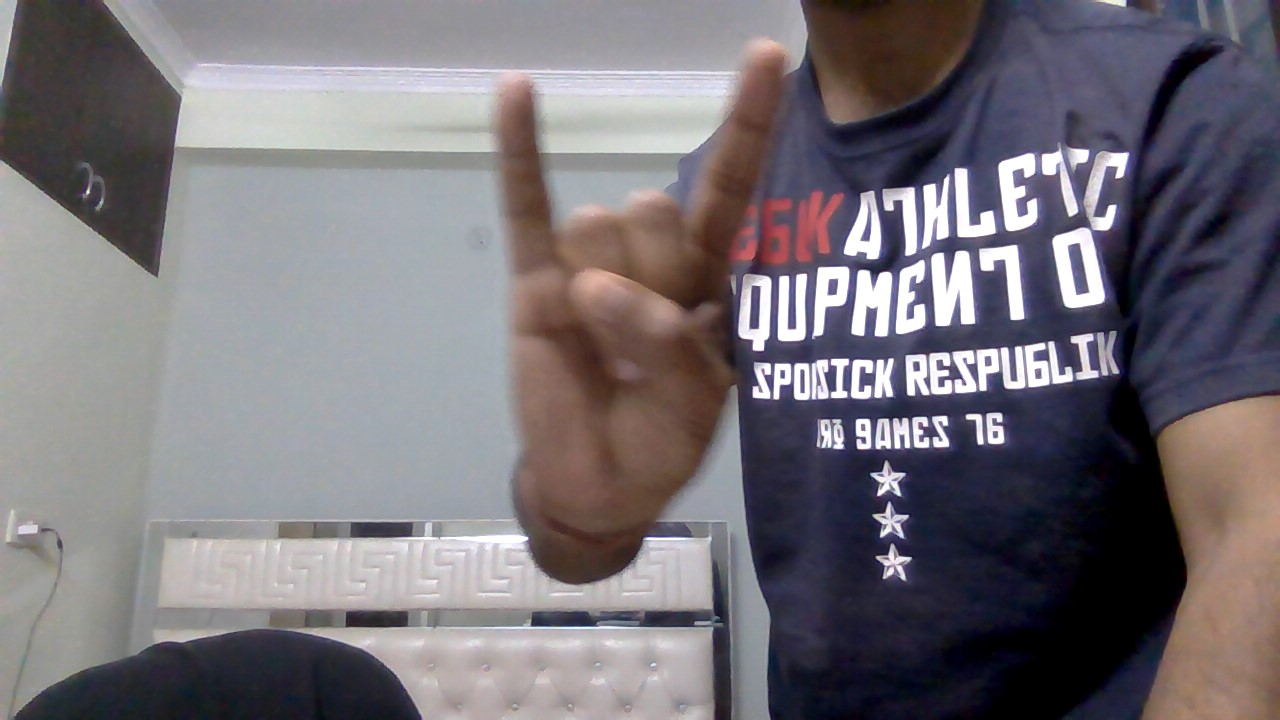Select All: (484, 37, 793, 526)
